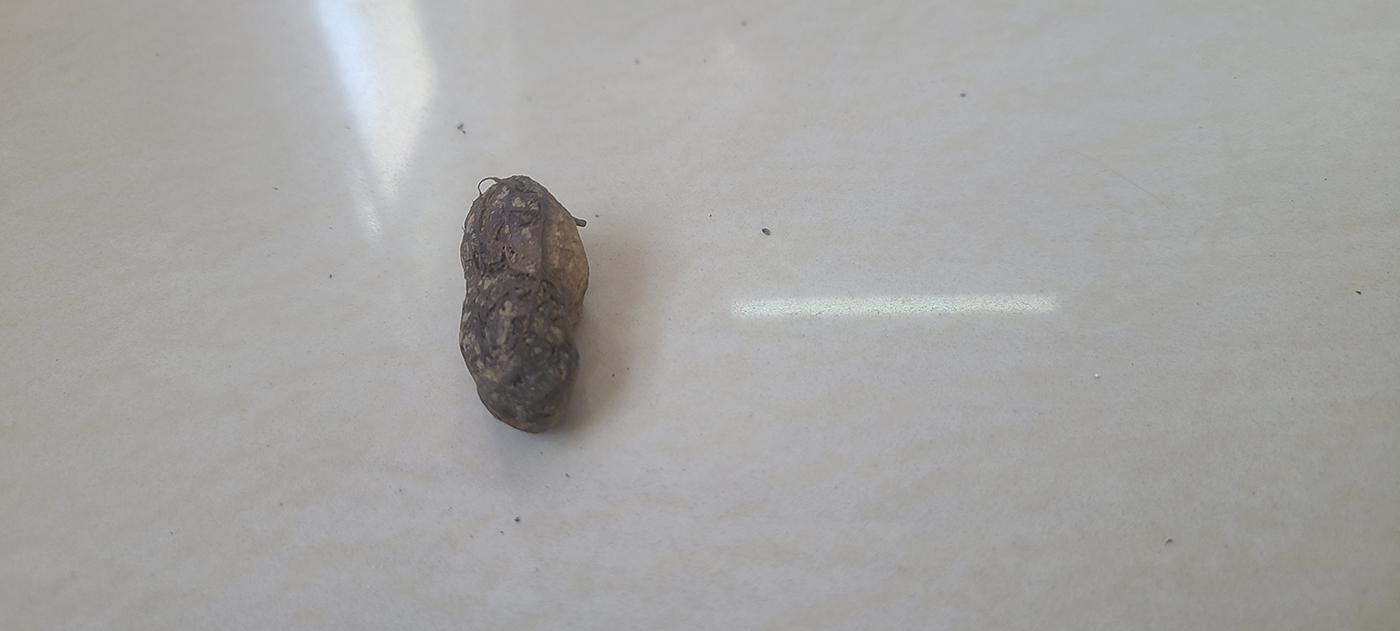l: (459, 175, 589, 433)
